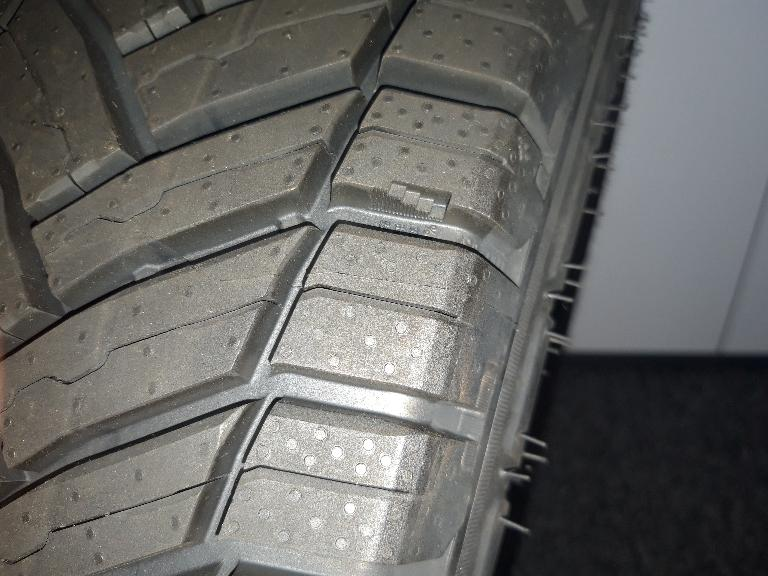temoin:100: (369, 178, 453, 224)
